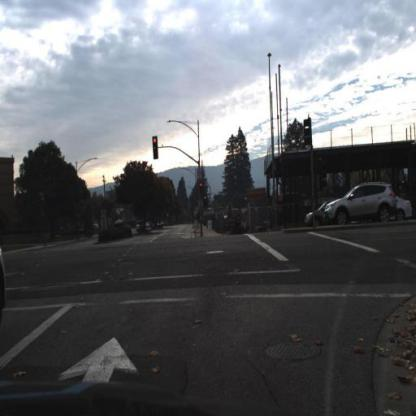car: (324, 185, 396, 222), (305, 200, 341, 230), (305, 200, 332, 229)
pedestrian: (270, 210, 276, 233), (237, 212, 242, 234)
trafficLight-Red: (153, 136, 159, 159), (199, 180, 204, 197)
